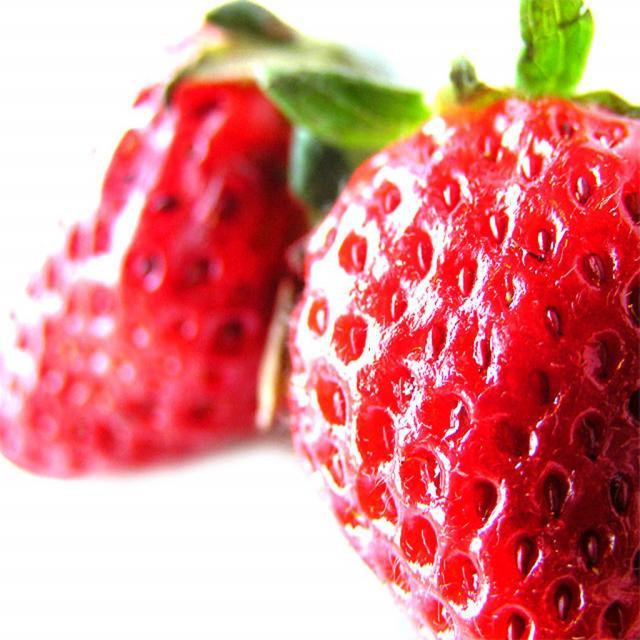Strawberry: (262, 45, 624, 640), (0, 0, 363, 474)
